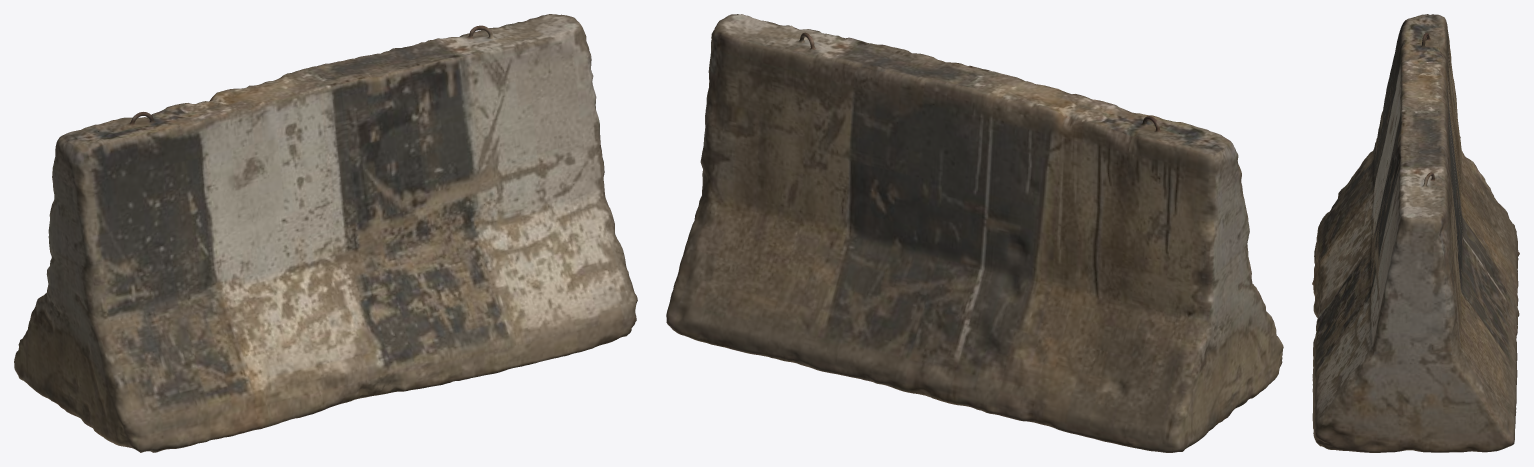
Rendered from guardrail.glb.
3 views of the same model, side by side, from view 1: azimuth 30°, elevation 25°; view 2: azimuth 150°, elevation 25°; view 3: azimuth 270°, elevation 25° (orthographic). The views are drawn at different scales.
Visible parts, largest first — view 1: concrete_road_barrier; view 2: concrete_road_barrier; view 3: concrete_road_barrier.
Part boxes in pixels (left/top/right/bottom): concrete_road_barrier: left=14, top=14, right=637, bottom=452; concrete_road_barrier: left=666, top=14, right=1283, bottom=452; concrete_road_barrier: left=1312, top=14, right=1519, bottom=452.
Bounding box in the file's own units: 1.55 × 0.831 × 0.6387.
Materials: 1 (1 with a texture image).
